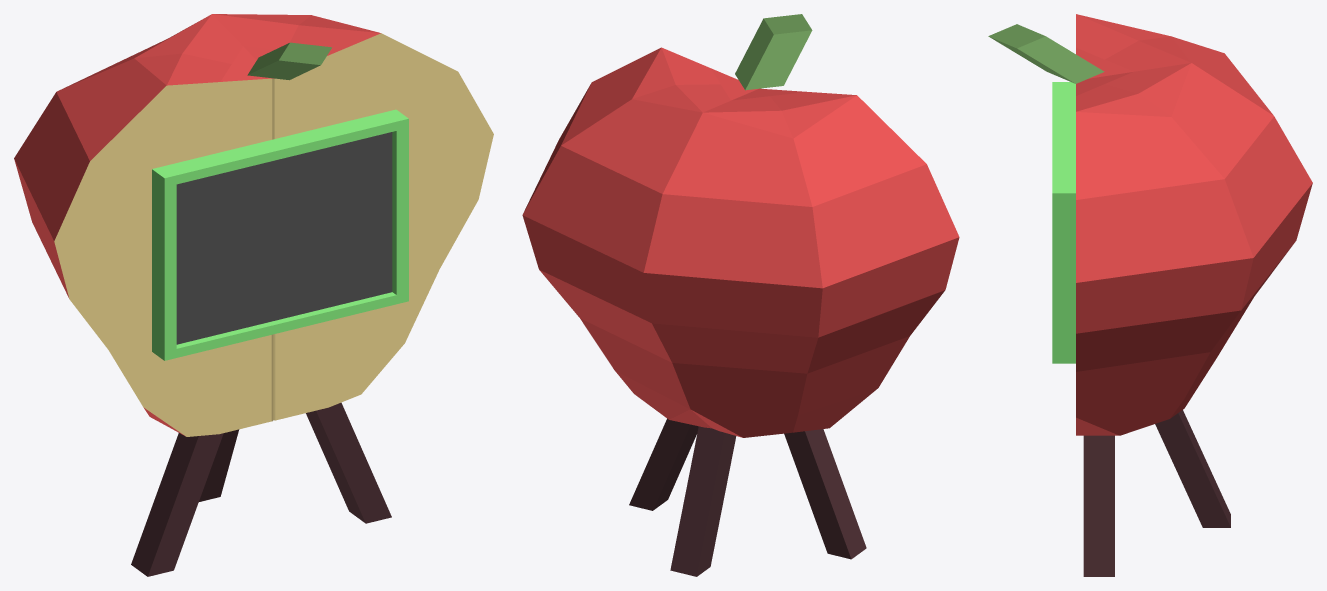
The model's file is AppleTV.fbx.
The picture shows the model from 3 angles, left to right: view 1: azimuth 30°, elevation 25°; view 2: azimuth 150°, elevation 25°; view 3: azimuth 270°, elevation 25°; orthographic projection. The views are drawn at different scales.
Parts seen in each view (by area): view 1: Cube.004, Cube, Cube.005, Cube.003, Cube.007, Cube.002, Cube.006, Cube.001, Cube.008; view 2: Cube.002, Cube.004, Cube.006, Cube.008, Cube.005, Cube.003, Cube.001, Cube.007; view 3: Cube.005, Cube.006, Cube, Cube.007, Cube.002, Cube.008, Cube.001, Cube.004.
Boxes of the visible parts, x1=… form: Cube.004: x1=14, y1=53, x2=272, y2=436; Cube: x1=152, y1=109, x2=408, y2=360; Cube.005: x1=273, y1=15, x2=493, y2=420; Cube.003: x1=131, y1=433, x2=223, y2=576; Cube.007: x1=306, y1=402, x2=391, y2=523; Cube.002: x1=59, y1=14, x2=273, y2=421; Cube.006: x1=212, y1=14, x2=310, y2=416; Cube.001: x1=247, y1=42, x2=331, y2=80; Cube.008: x1=199, y1=429, x2=239, y2=501; Cube.002: x1=643, y1=88, x2=822, y2=437; Cube.004: x1=761, y1=88, x2=959, y2=432; Cube.006: x1=522, y1=84, x2=757, y2=428; Cube.008: x1=670, y1=426, x2=736, y2=576; Cube.005: x1=524, y1=47, x2=759, y2=211; Cube.003: x1=784, y1=429, x2=866, y2=559; Cube.001: x1=735, y1=14, x2=812, y2=90; Cube.007: x1=629, y1=418, x2=698, y2=510; Cube.005: x1=1076, y1=81, x2=1253, y2=435; Cube.006: x1=1083, y1=63, x2=1312, y2=418; Cube: x1=1052, y1=82, x2=1075, y2=363; Cube.007: x1=1083, y1=435, x2=1114, y2=576; Cube.002: x1=1089, y1=36, x2=1273, y2=115; Cube.008: x1=1155, y1=410, x2=1230, y2=527; Cube.001: x1=988, y1=24, x2=1104, y2=83; Cube.004: x1=1076, y1=14, x2=1170, y2=65.
Bounding box in the file's own units: 605 × 683 × 414.
